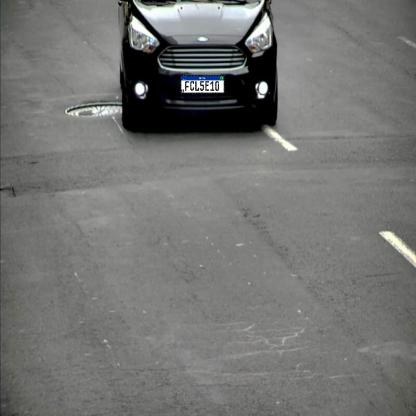PlacaM: (180, 75, 224, 93)
